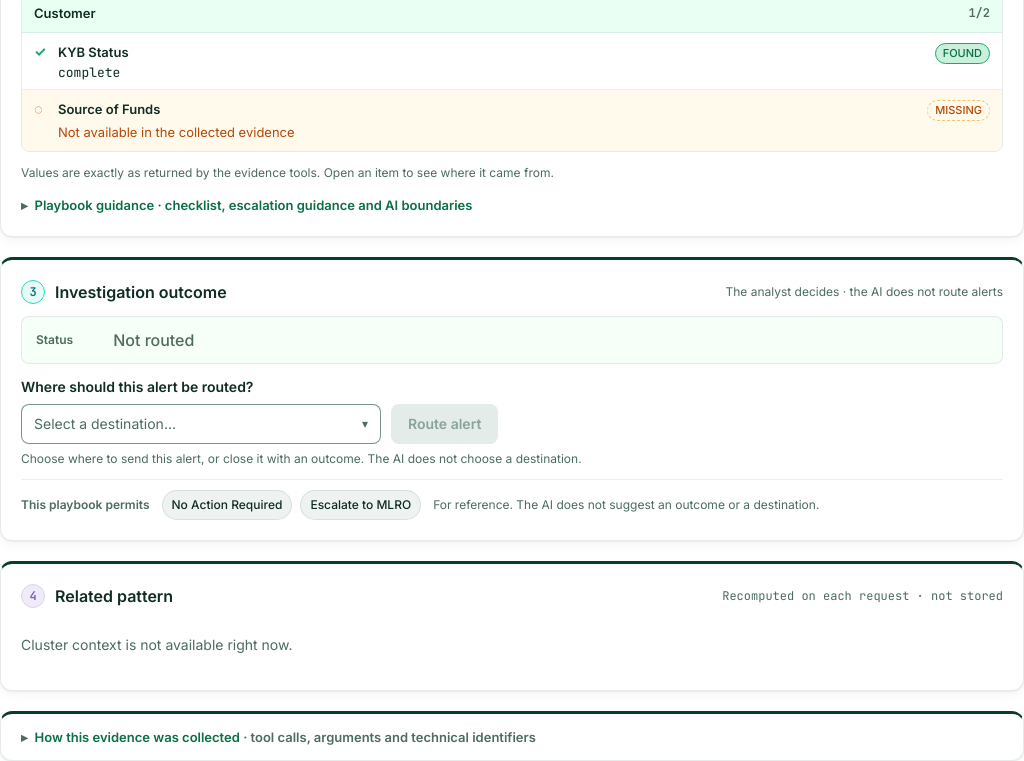
Test: routing › choosing a destination does not route it; Route alert records it once
(page scrolled)
Expected: the text "Not routed" is shown, [113,329,194,351]
Step 1. Click the button with aria-label "Routing destination" → [105, 424], box [21,404,381,444]
(page scrolled)
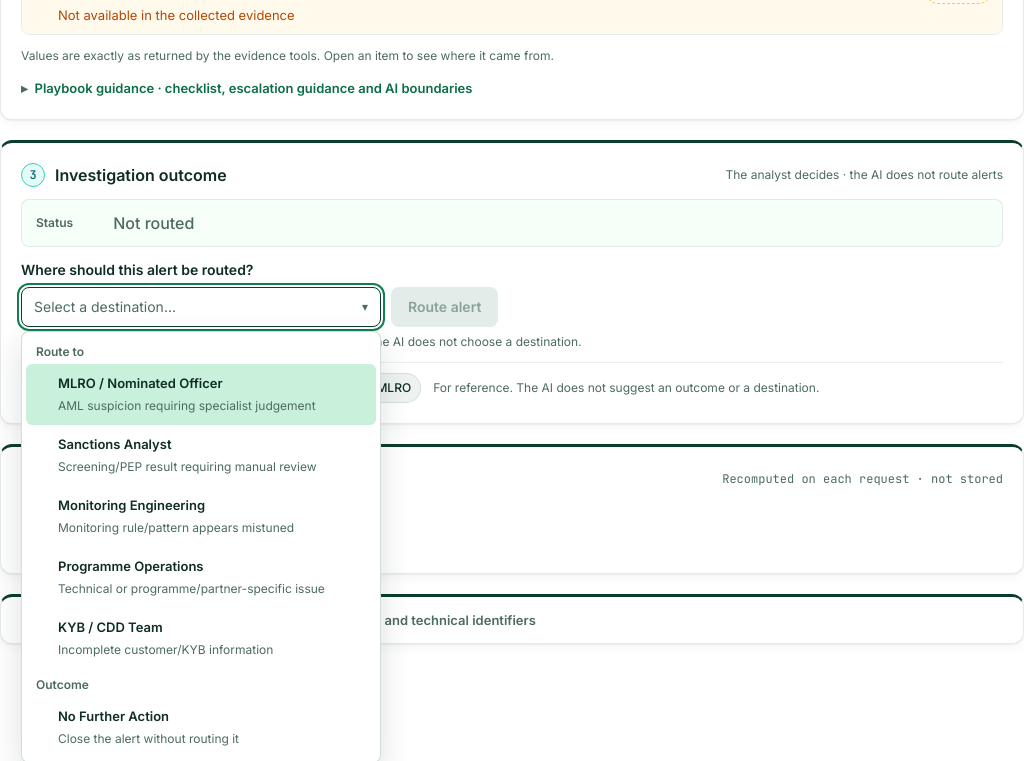
Step 2. Click the option "Sanctions Analyst" → [115, 444], box [58,436,316,474]
(page scrolled)
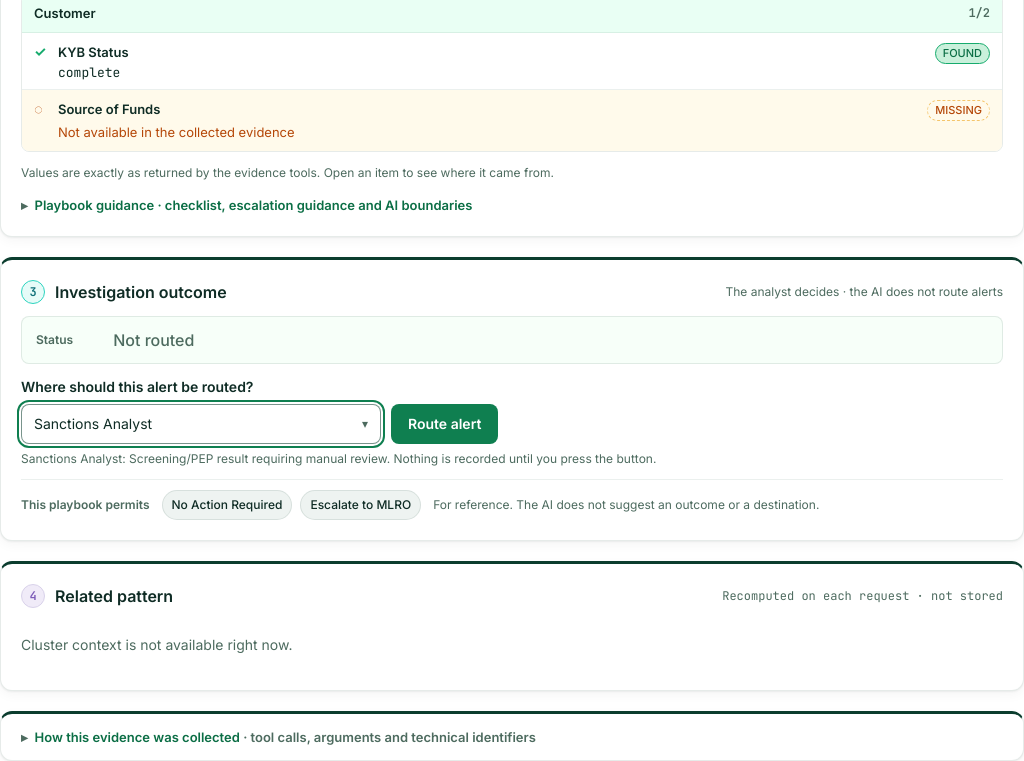
Expected: the text "Nothing is recorded until you press the button" is shown, [21,451,656,466]
Step 3. Click the button "Route alert" → [445, 424], box [391,404,498,444]
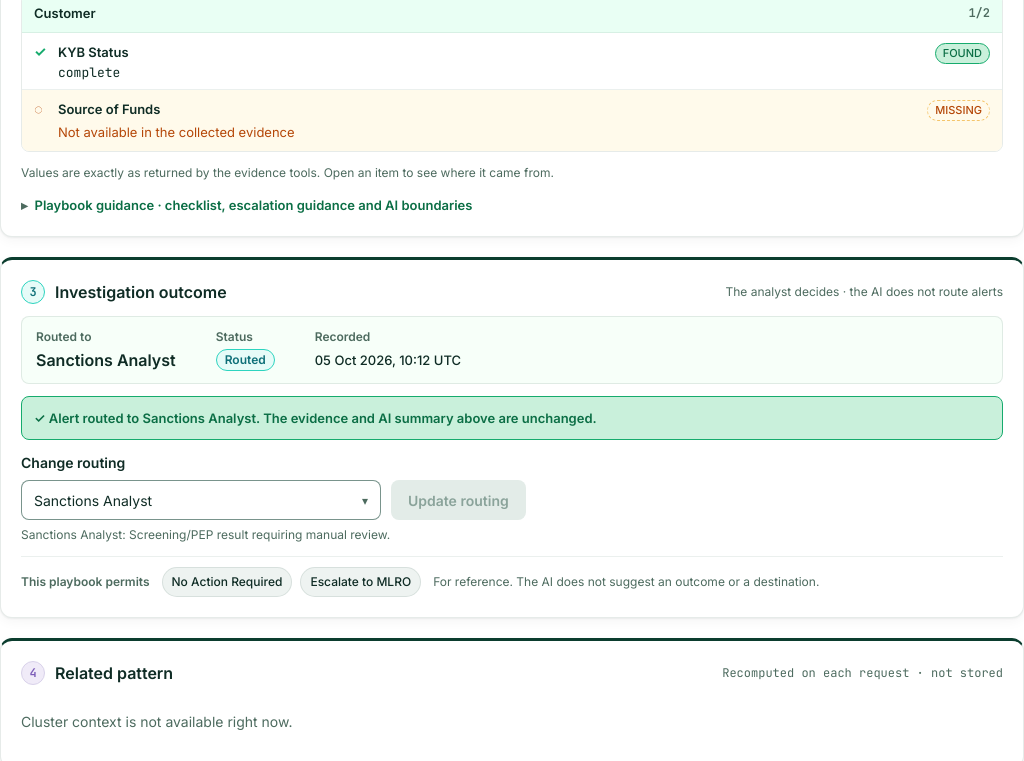
Expected: the text "Alert routed to Sanctions Analyst." is shown, [49,410,260,426]
Expected: the text "Routed to" is shown, [36,329,92,344]
Expected: the text "Sanctions Analyst" in the row of "05 Oct 2026, 10:12 UTC" is shown, [36,350,176,370]
